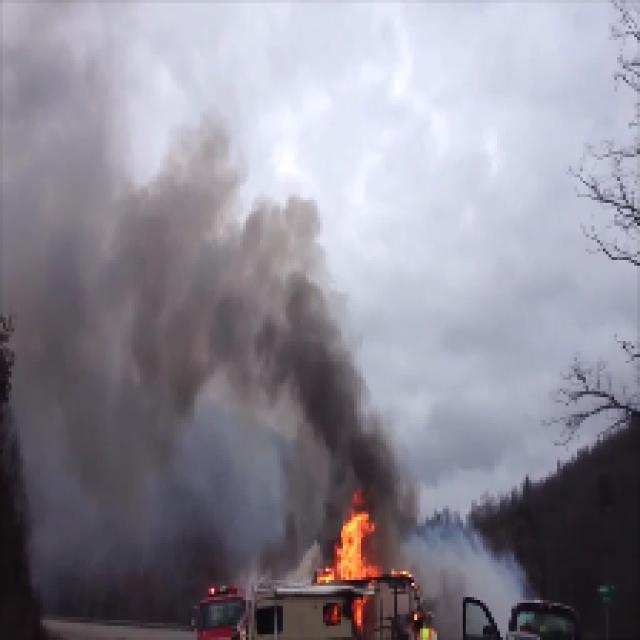fire: (314, 505, 384, 634)
smoke: (9, 19, 239, 544), (244, 191, 423, 491)
